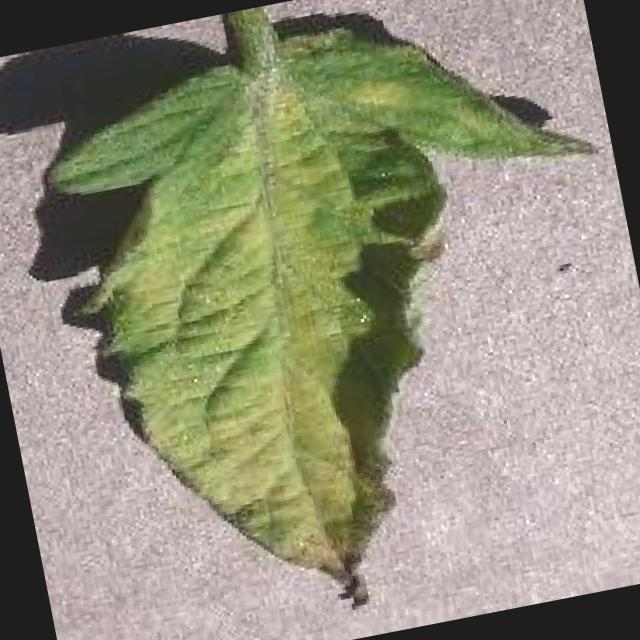leaf mold: (38, 6, 593, 583)
